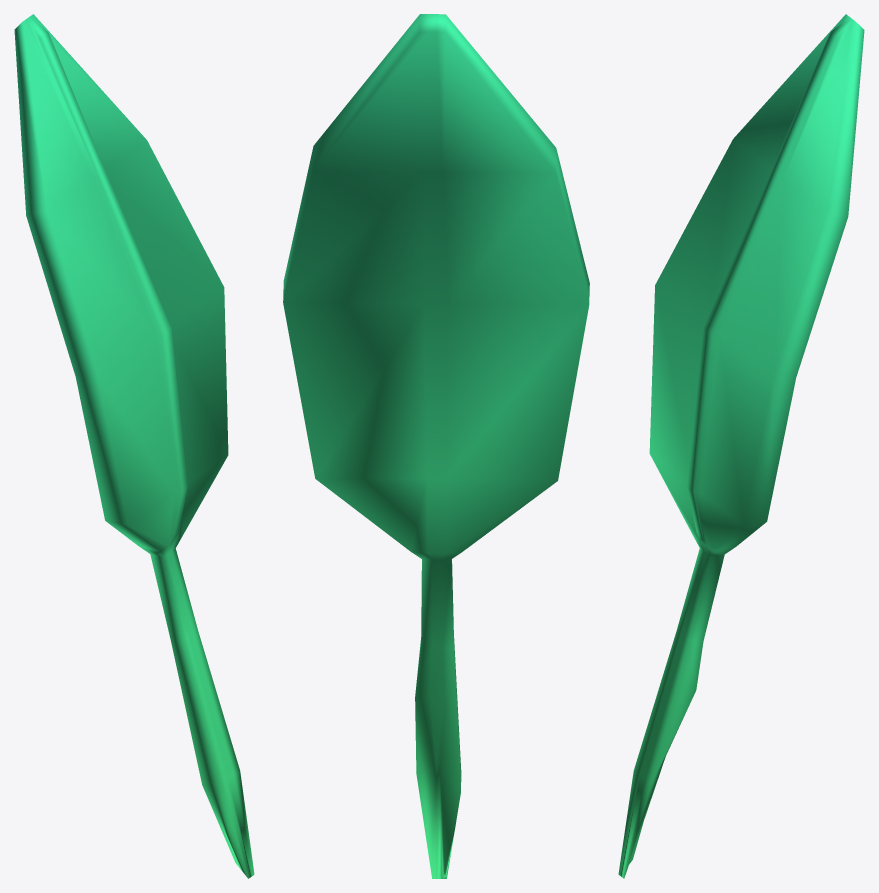
Rendered from quill.fbx.
3 views of the same model, side by side, from view 1: azimuth 30°, elevation 25°; view 2: azimuth 150°, elevation 25°; view 3: azimuth 270°, elevation 25° (orthographic). The views are drawn at different scales.
Visible parts, largest first — view 1: Plane.001; view 2: Plane.001; view 3: Plane.001.
Boxes of the visible parts, box(x1,y1,x2,y2) form: Plane.001: box(14, 14, 254, 878); Plane.001: box(283, 14, 589, 878); Plane.001: box(618, 14, 864, 878).
Bounding box in the file's own units: 4.51 × 16.63 × 4.6.
